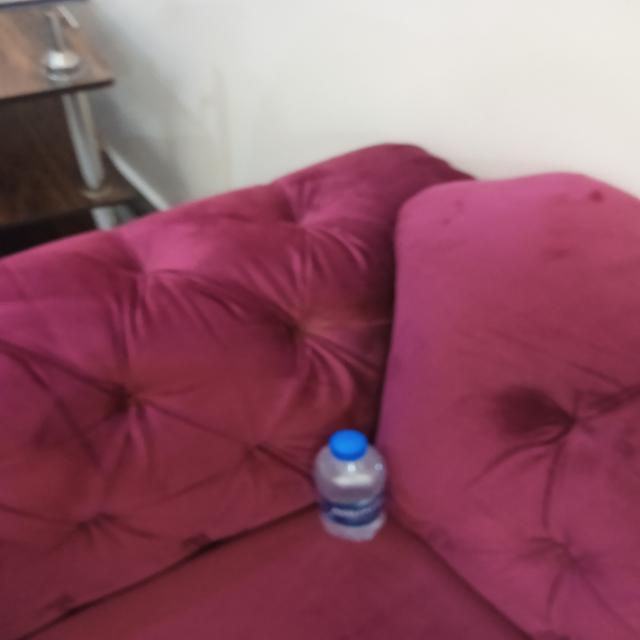Plastic: (301, 422, 398, 548)
